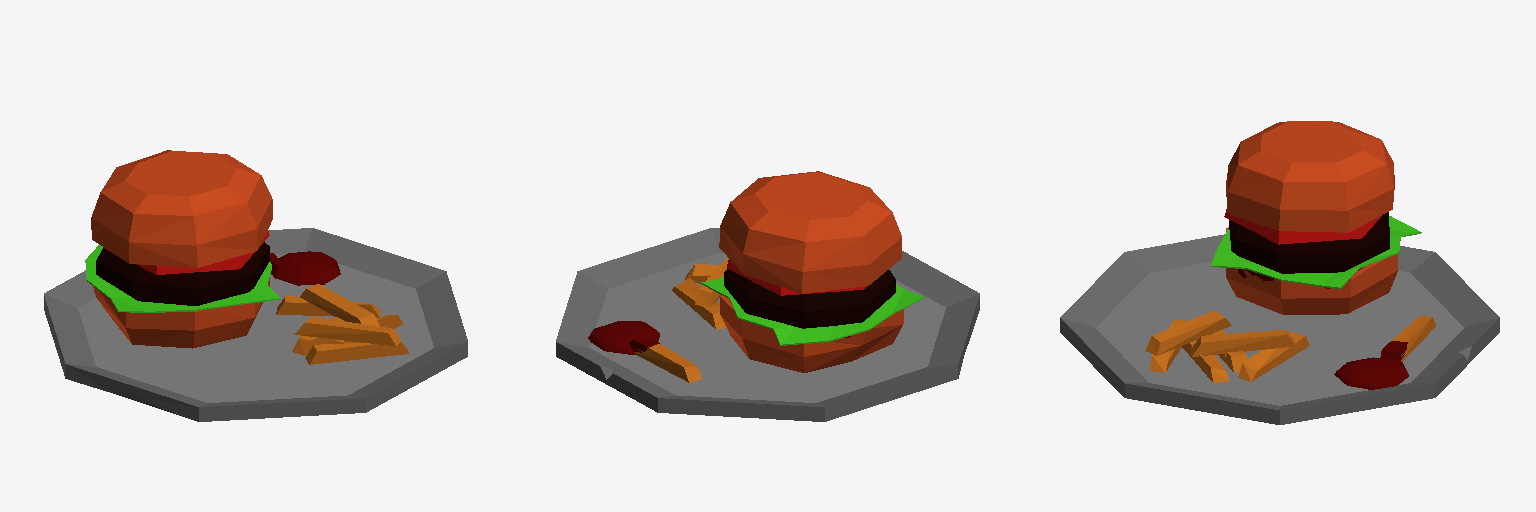
File: PlateWithFood.obj
The picture shows the model from 3 angles: view 1: azimuth 30°, elevation 25°; view 2: azimuth 150°, elevation 25°; view 3: azimuth 270°, elevation 25°; orthographic projection.
Visible parts, largest first — view 1: Plate_Cylinder, Burger_Cylinder.003, Fries_Cube.007, Ketchup_Sphere; view 2: Plate_Cylinder, Burger_Cylinder.003, Fries_Cube.007, Ketchup_Sphere; view 3: Plate_Cylinder, Burger_Cylinder.003, Fries_Cube.007, Ketchup_Sphere.
Part boxes in pixels (bbox=[...]): Plate_Cylinder: bbox=[44, 228, 467, 421]; Burger_Cylinder.003: bbox=[85, 150, 279, 348]; Fries_Cube.007: bbox=[270, 253, 409, 364]; Ketchup_Sphere: bbox=[271, 251, 340, 285]; Plate_Cylinder: bbox=[556, 228, 979, 421]; Burger_Cylinder.003: bbox=[701, 171, 924, 372]; Fries_Cube.007: bbox=[629, 258, 728, 382]; Ketchup_Sphere: bbox=[588, 321, 659, 354]; Plate_Cylinder: bbox=[1060, 234, 1499, 424]; Burger_Cylinder.003: bbox=[1211, 121, 1421, 314]; Fries_Cube.007: bbox=[1145, 311, 1435, 382]; Ketchup_Sphere: bbox=[1334, 357, 1408, 389].
Bounding box in the file's own units: 0.4927 × 0.2143 × 0.4927.